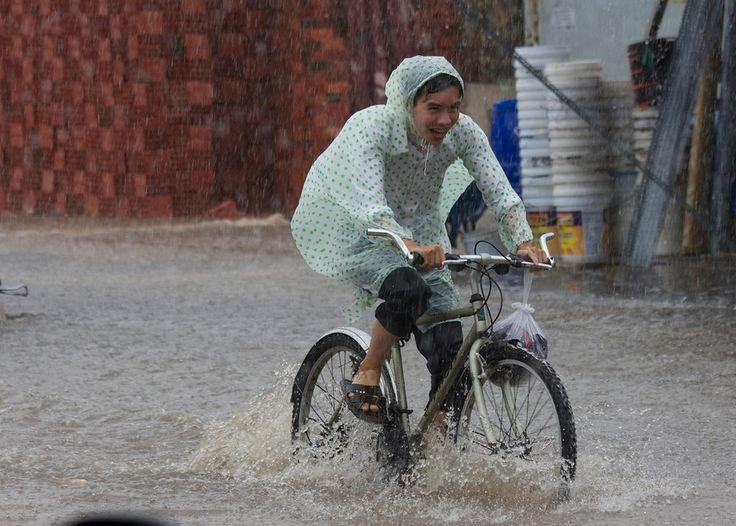bicycle: (294, 244, 574, 466)
